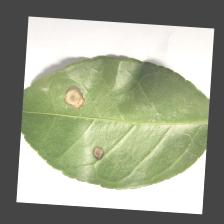canker: (58, 77, 113, 172)
